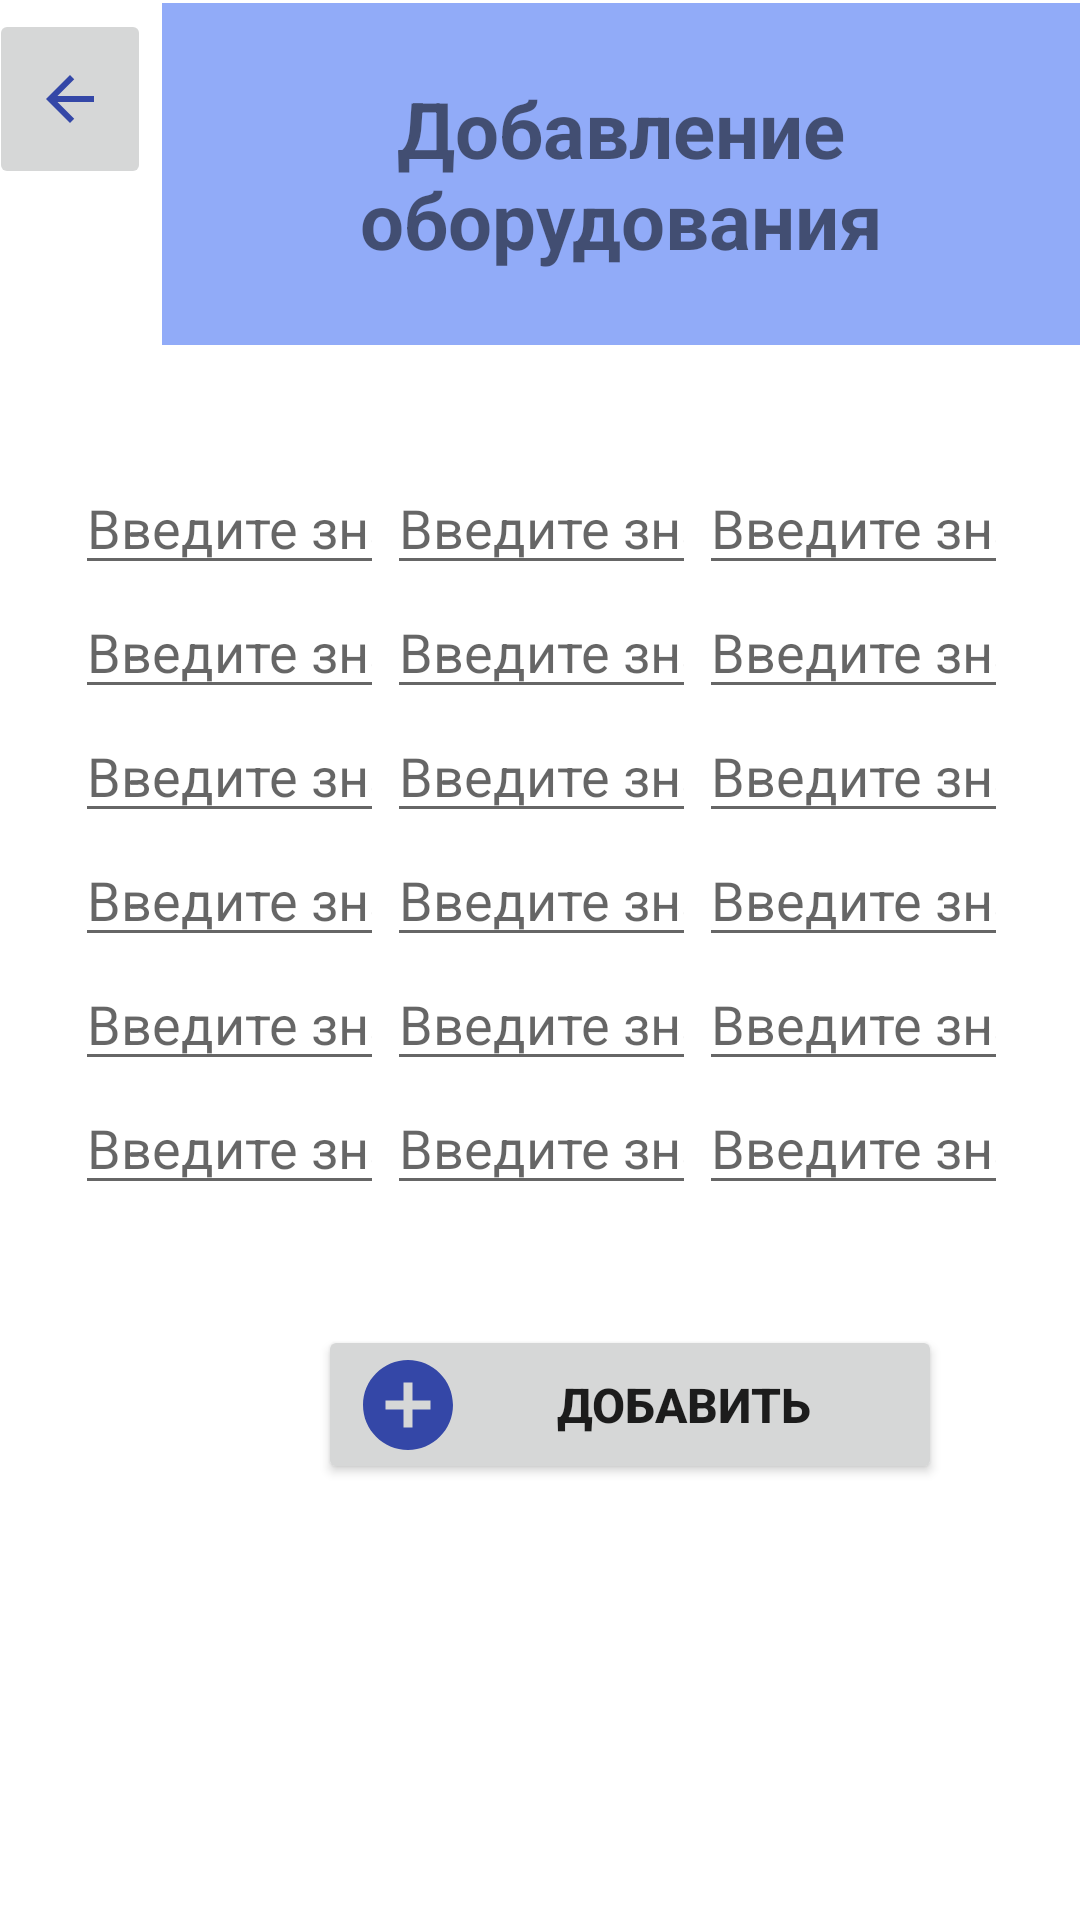

Icons on this 1080w x 1920h Android screen, each with its box as (x1, y1, x2, y2):
arrow back: (1, 27, 139, 171)
